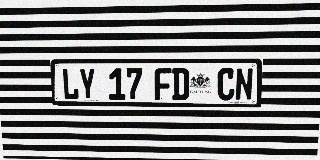1: (108, 68, 125, 100)
7: (125, 68, 142, 100)
C: (217, 68, 235, 100)
D: (172, 68, 189, 100)
F: (154, 68, 171, 100)
L: (62, 68, 79, 100)
N: (235, 68, 253, 101)
Y: (79, 68, 96, 100)
